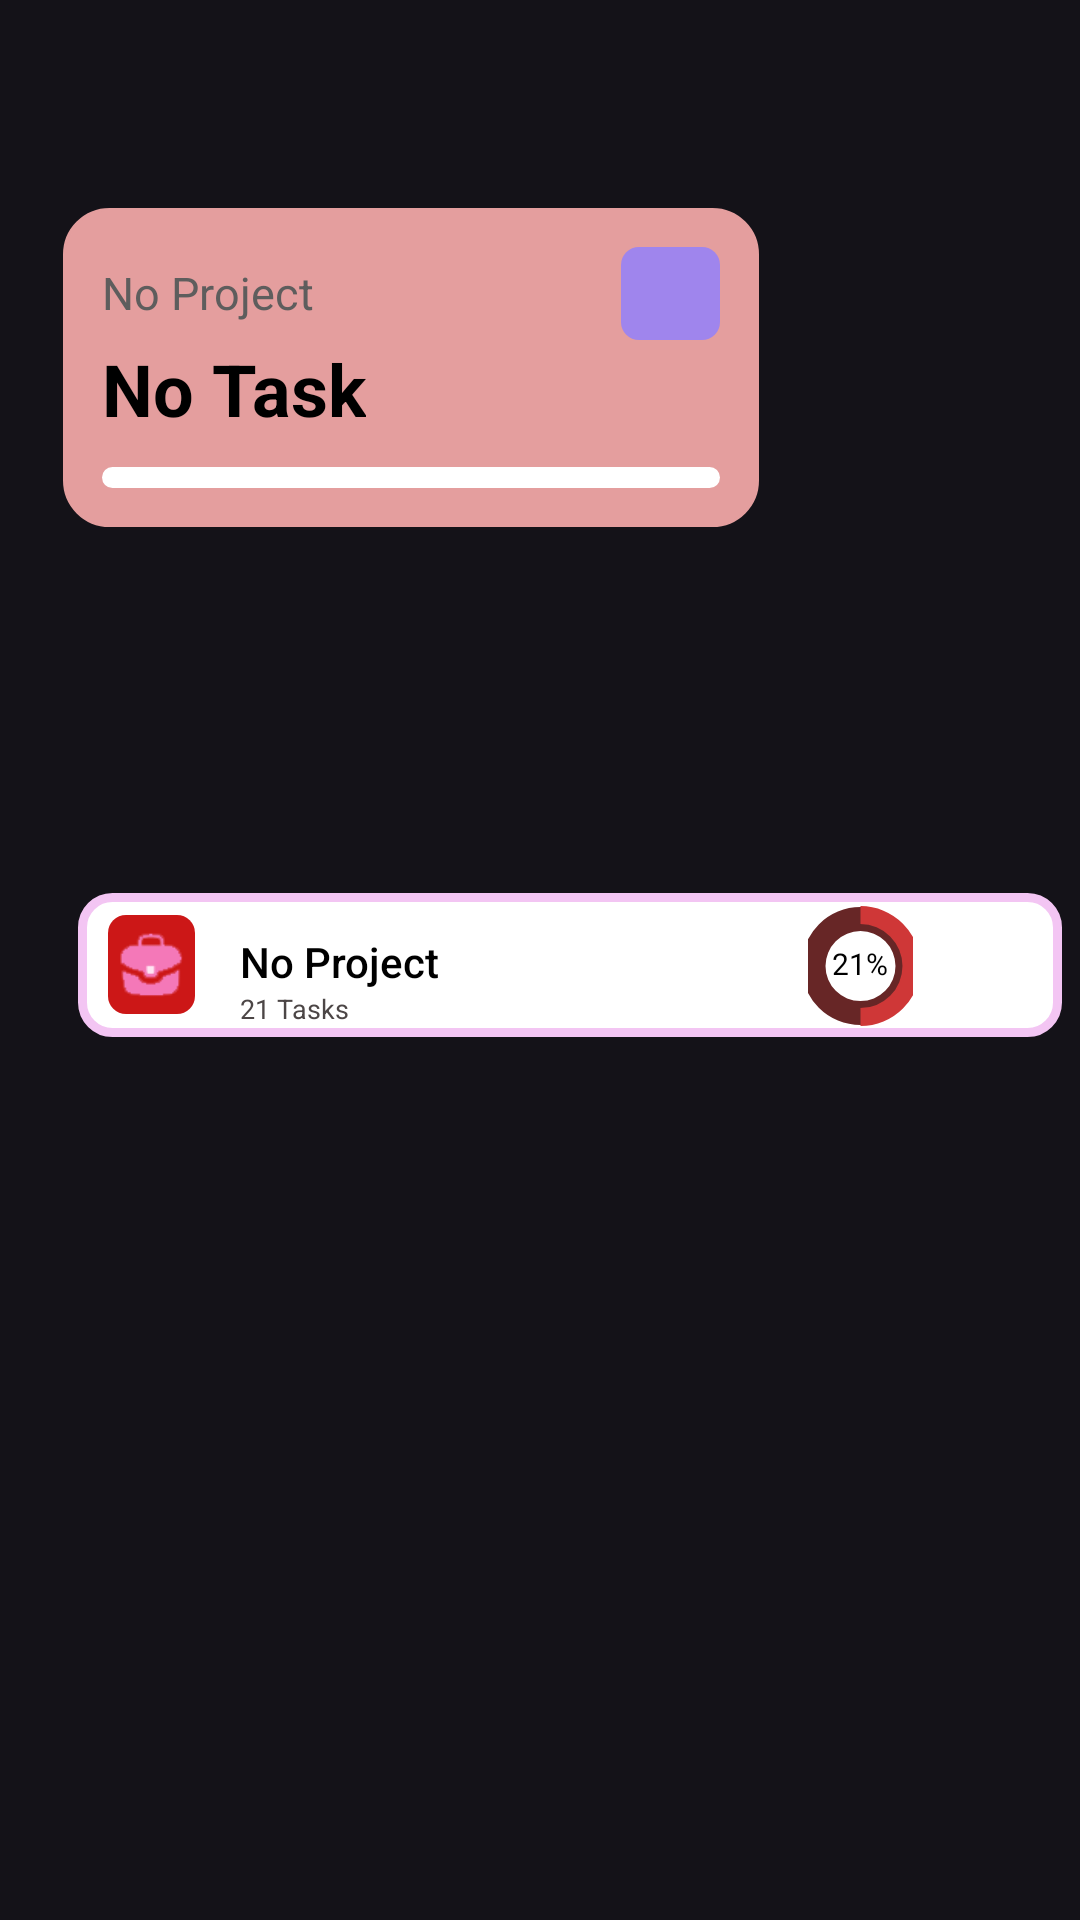

Screen size 1080px x 1920px. Icon name, then its box in pixels as (x1, y1, x2, y2):
office: (120, 933, 182, 996)
